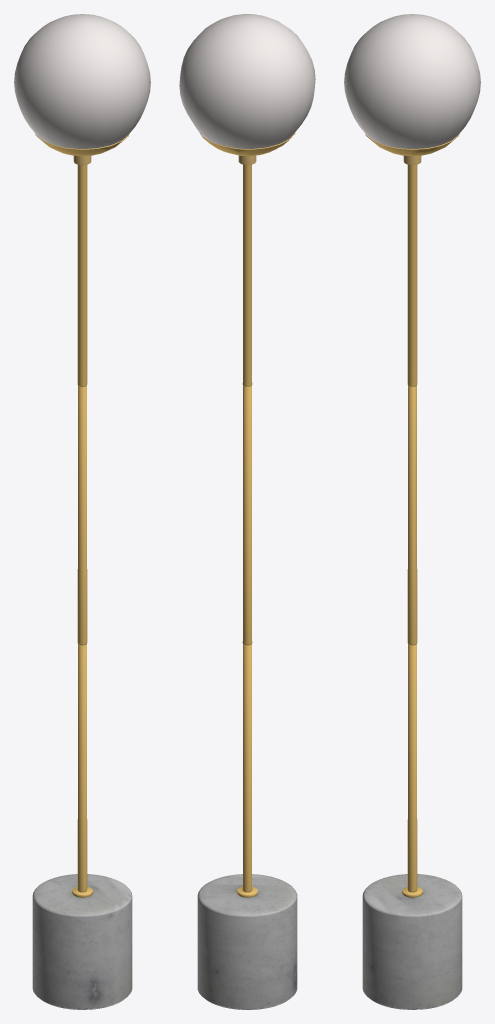
The picture shows the model from 3 angles, left to right: view 1: azimuth 90°, elevation 25°; view 2: azimuth 150°, elevation 25°; view 3: azimuth 270°, elevation 25°; orthographic projection.
Visible parts, largest first — view 1: RootNode; view 2: RootNode; view 3: RootNode.
Part boxes in pixels (x1=…): RootNode: x1=14, y1=14, x2=150, y2=1009; RootNode: x1=179, y1=14, x2=315, y2=1009; RootNode: x1=344, y1=14, x2=480, y2=1009.
Bounding box in the file's own units: 0.2243 × 1.75 × 0.2243.
1 material, 1 textured.
